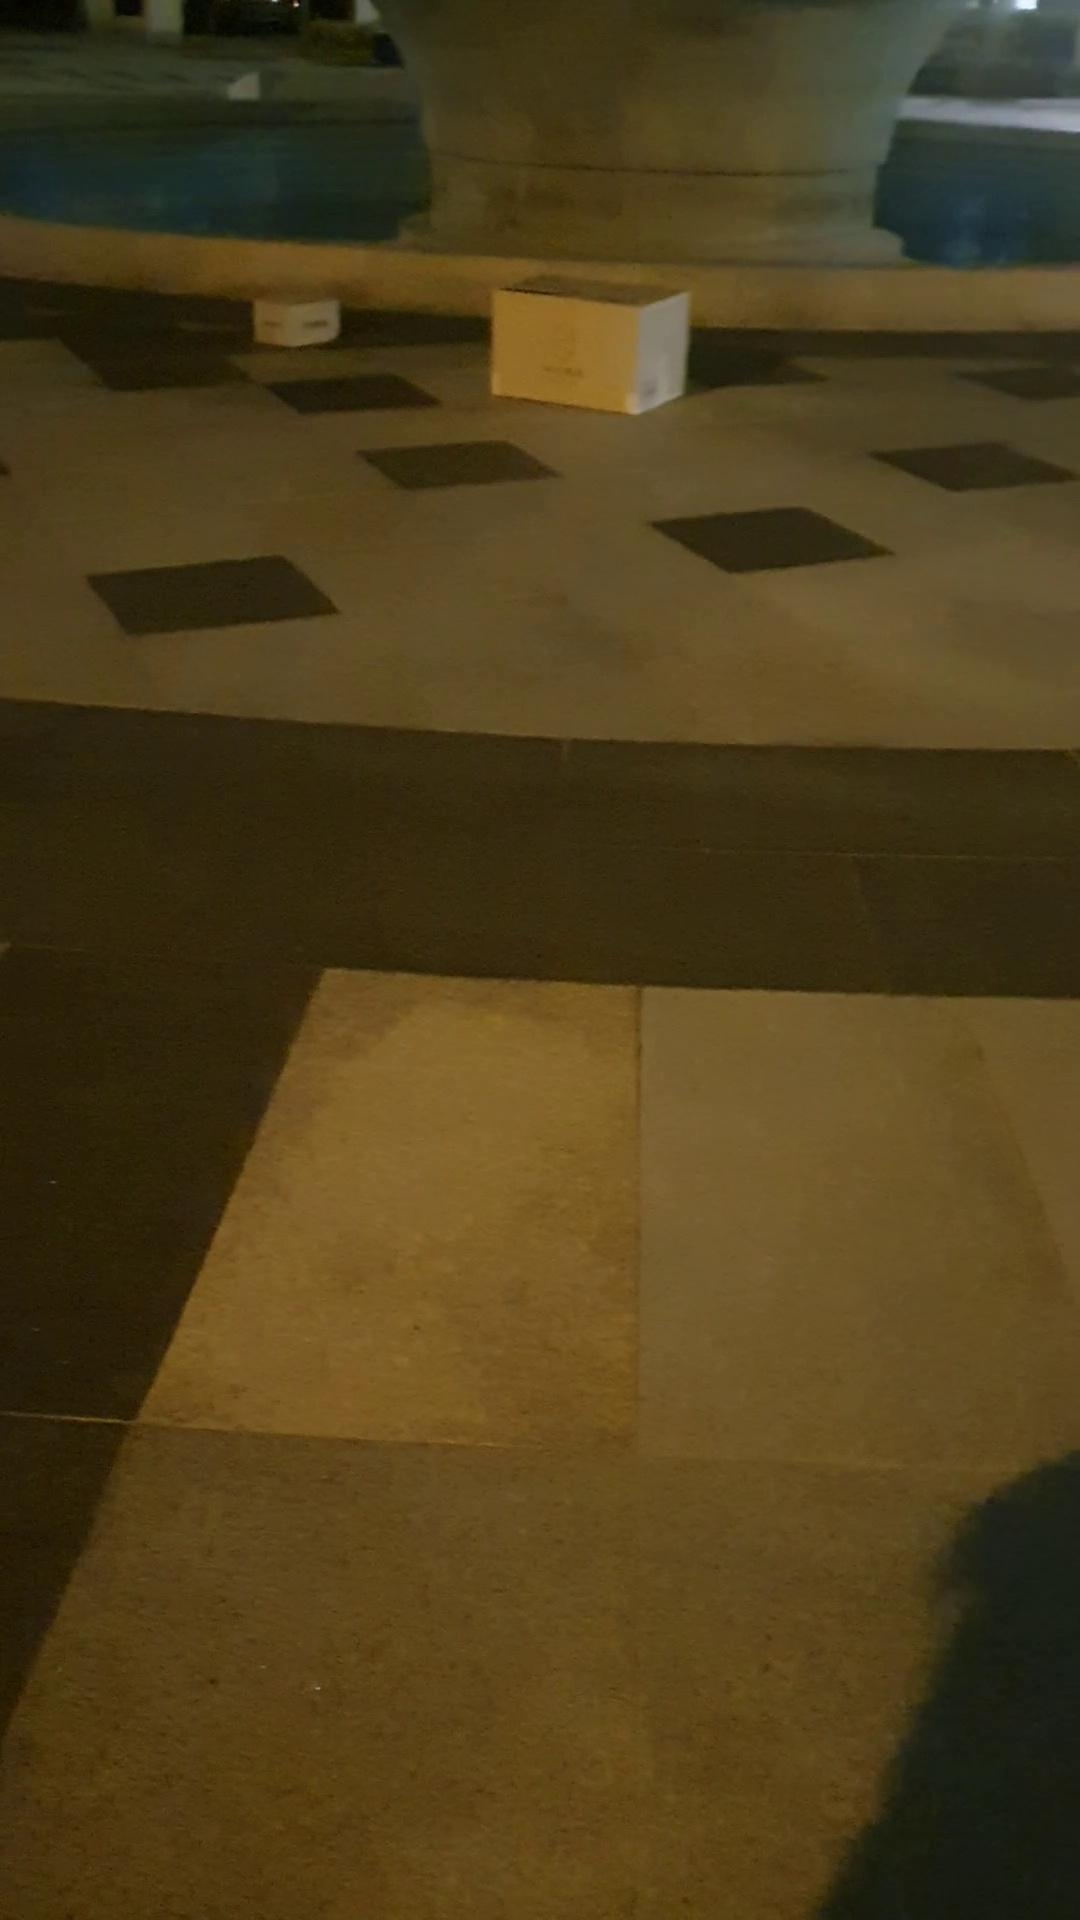Box: (463, 270, 709, 430), (228, 280, 352, 357)
